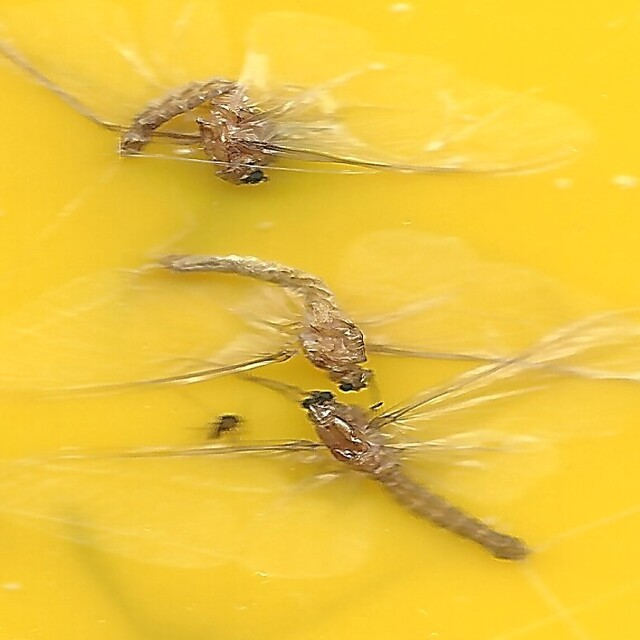Ephemeroptera: (293, 386, 528, 562), (160, 252, 376, 391), (112, 78, 288, 190)
